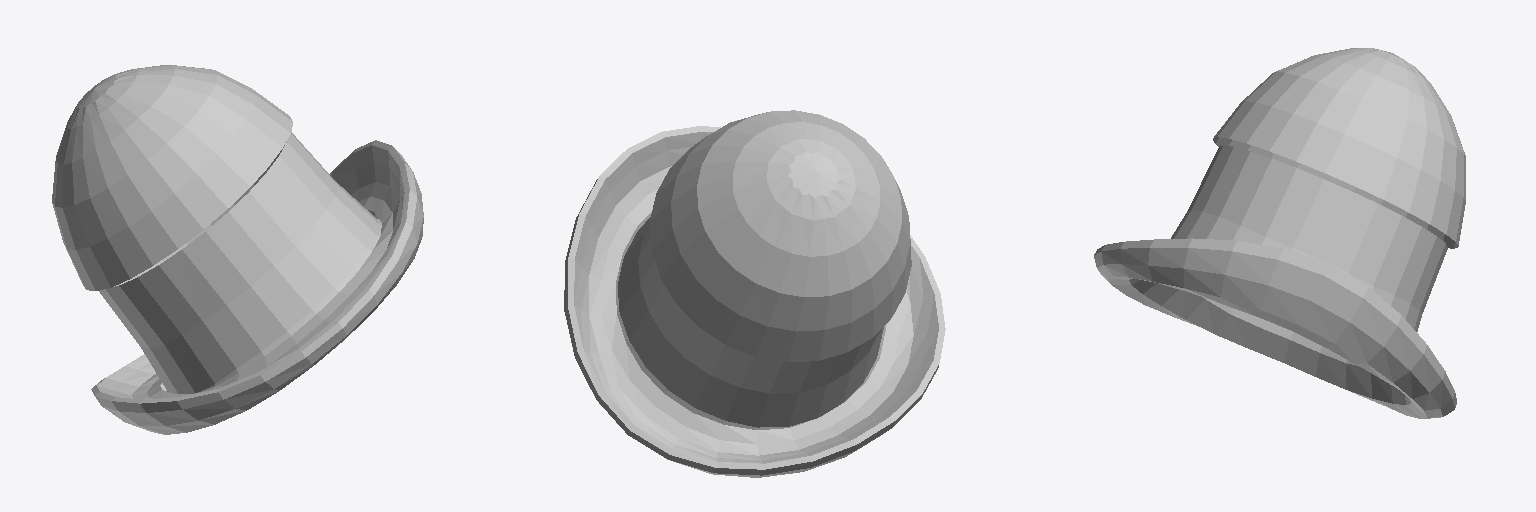
File: SubTool-10-13786786.OBJ
The picture shows the model from 3 angles: view 1: azimuth 30°, elevation 25°; view 2: azimuth 150°, elevation 25°; view 3: azimuth 270°, elevation 25°; orthographic projection.
Parts seen in each view (by area): view 1: Group2; view 2: Group2; view 3: Group2.
Boxes of the visible parts, <box> form: Group2: <box>52,65,423,434</box>; Group2: <box>564,110,945,477</box>; Group2: <box>1094,48,1465,418</box>.
Bounding box in the file's own units: 3.15 × 3.26 × 3.26.